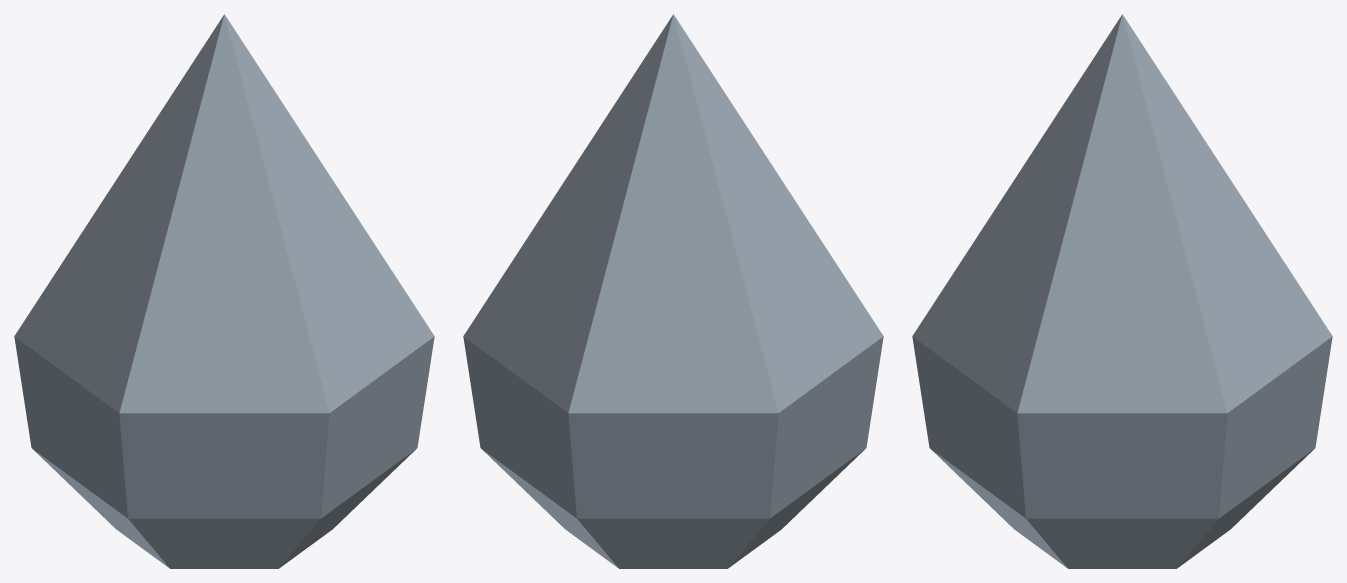
The model's file is Water Drop.fbx.
3 views of the same model, side by side, from view 1: azimuth 30°, elevation 25°; view 2: azimuth 150°, elevation 25°; view 3: azimuth 270°, elevation 25° (orthographic).
Visible parts, largest first — view 1: Water Drop; view 2: Water Drop; view 3: Water Drop.
Boxes of the visible parts, x1,y1,x2,y2 form: Water Drop: [14, 14, 434, 568]; Water Drop: [463, 14, 883, 568]; Water Drop: [912, 14, 1332, 568].
Bounding box in the file's own units: 0.1131 × 0.1767 × 0.1307.
